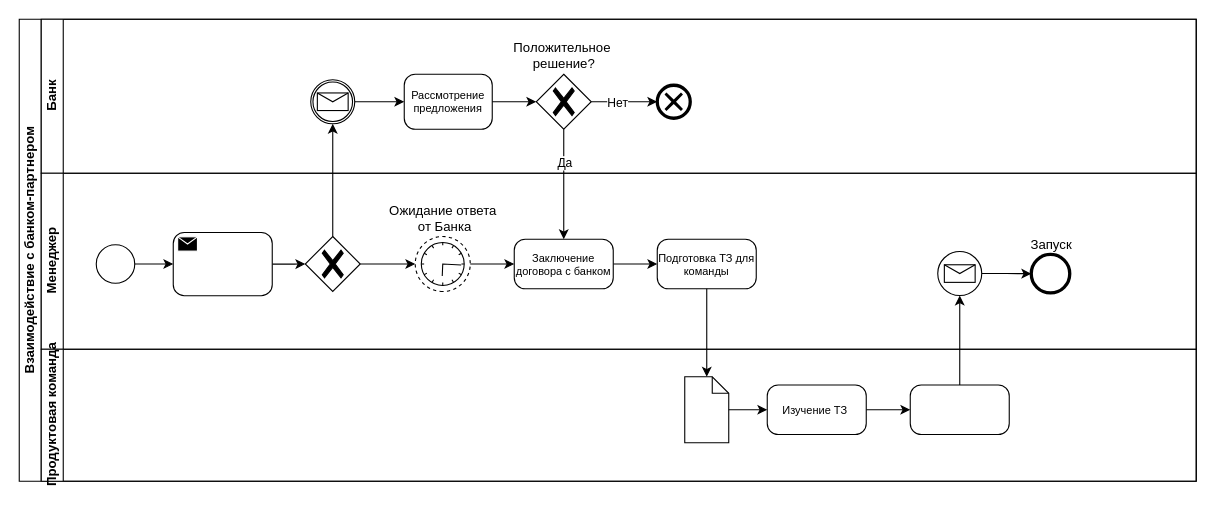
This 1216x506 diagram has some shape labels left out. The centre of each missing label's shape, as x and y in pixels:
Письмо о готовности: point 959,273
Подготовка предложения по сотрудничеству: point 222,263
Получение сообщения о предложении: point 332,101
Реализация: point 959,409
ТЗ: point 706,409
